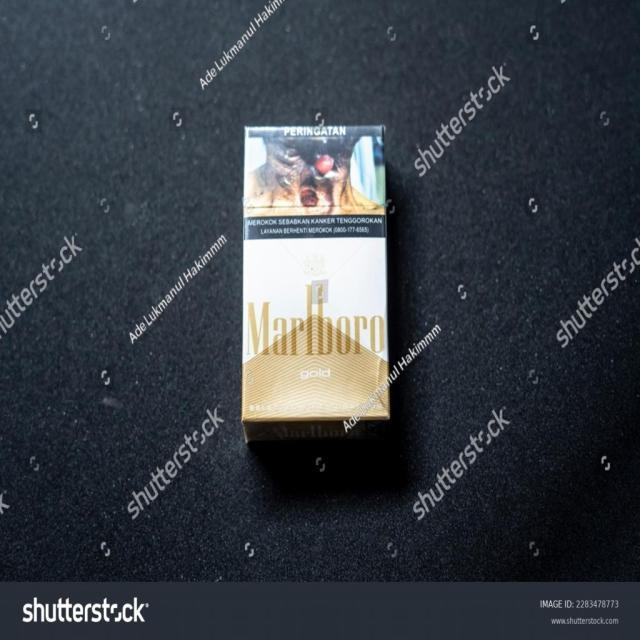smoking: (238, 123, 390, 442)
